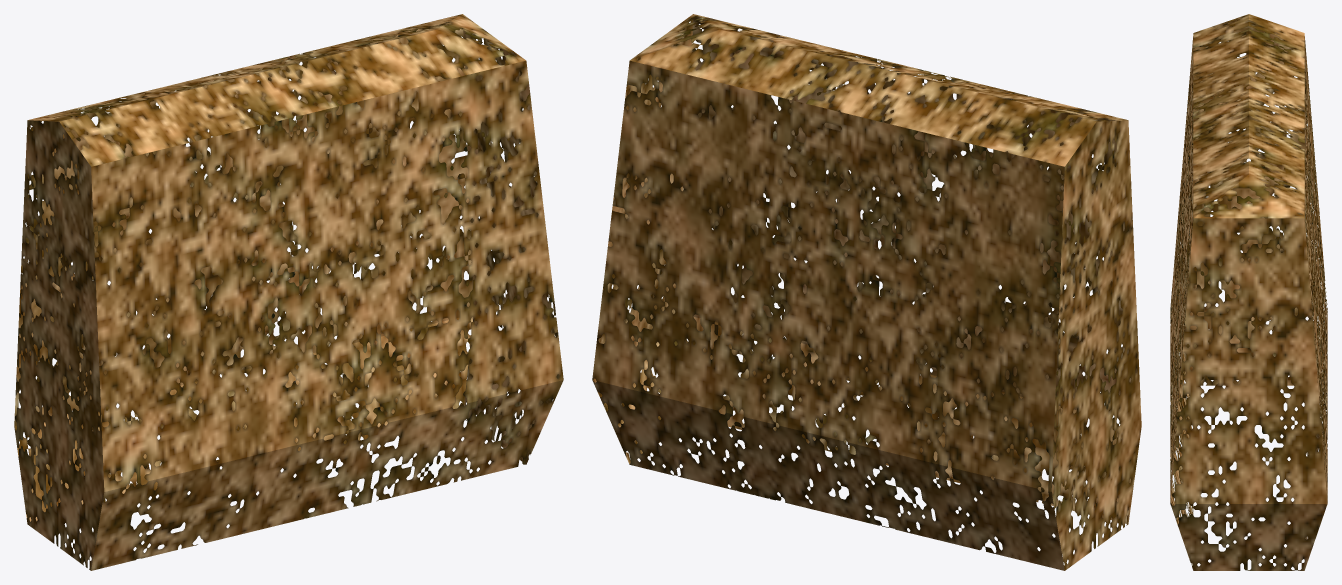
File: bush_tall_open_right_autumn.fbx
The picture shows the model from 3 angles, left to right: view 1: azimuth 30°, elevation 25°; view 2: azimuth 150°, elevation 25°; view 3: azimuth 270°, elevation 25°; orthographic projection. The views are drawn at different scales.
Parts seen in each view (by area): view 1: bush_tall_open_right_autumn; view 2: bush_tall_open_right_autumn; view 3: bush_tall_open_right_autumn.
Part boxes in pixels (x1=…): bush_tall_open_right_autumn: x1=14, y1=14, x2=563, y2=570; bush_tall_open_right_autumn: x1=592, y1=14, x2=1141, y2=570; bush_tall_open_right_autumn: x1=1170, y1=14, x2=1327, y2=570.
Bounding box in the file's own units: 212 × 188 × 71.91.
Materials: 1 (1 with a texture image).
